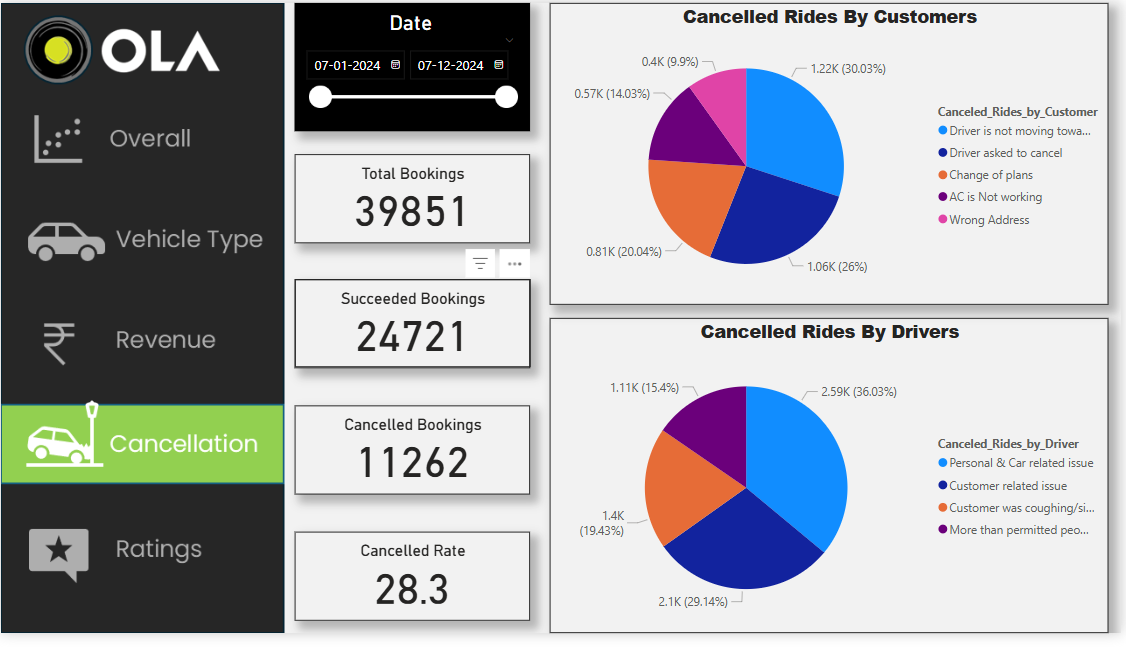

Layout of this report page (visuals, bound fields, positions):
{"tool":"powerbi","page":{"name":"Cancellation","canvas":[1280,720],"ordinal":3},"visuals":[{"type":"actionButton","box":[0,225.1,323.3,90],"z":0},{"type":"actionButton","box":[0,111.8,323.3,90],"z":1000},{"type":"actionButton","box":[0,334.4,323.3,106.7],"z":2000},{"type":"actionButton","box":[0,570.7,323.3,110],"z":3000},{"type":"pieChart","title":"Cancelled Rides By Customers","fields":{"Category":["Bookings.Canceled_Rides_by_Customer"],"Y":["CountNonNull(Bookings.Canceled_Rides_by_Customer)"]},"box":[627.5,0,638.8,345],"z":4000},{"type":"pieChart","title":"Cancelled Rides By Drivers","fields":{"Category":["Bookings.Canceled_Rides_by_Driver"],"Y":["CountNonNull(Bookings.Canceled_Rides_by_Driver)"]},"box":[627.5,360,638.8,360],"z":5000},{"type":"slicer","title":"Date","fields":{"Values":["Bookings.Date"]},"box":[336.2,0,268.8,146.2],"z":6000},{"type":"card","title":"Total Bookings","fields":{"Values":["Bookings.TotalBokkings"]},"box":[336.2,172.5,268.8,101.2],"z":7000},{"type":"card","title":"Succeeded Bookings","fields":{"Values":["Count(Bookings.Booking_ID)"]},"box":[336.2,315,268.8,101.2],"z":8000},{"type":"card","title":"Cancelled Bookings","fields":{"Values":["Bookings.CanceledBookings"]},"box":[336.2,460,268.8,101.2],"z":9000},{"type":"card","title":"Cancelled Rate","fields":{"Values":["Bookings.CanceledPercentage"]},"box":[336.2,603.8,268.8,101.2],"z":10000}]}

Visuals, with their boxes in screenshot pixels (x1, y1, x2, y2), scaled from the page's 1280x720 canvas onto the 1126x647 screenshot:
actionButton: [0, 202, 284, 283]
actionButton: [0, 100, 284, 181]
actionButton: [0, 300, 284, 396]
actionButton: [0, 513, 284, 612]
"Cancelled Rides By Customers" pieChart: [552, 0, 1114, 310]
"Cancelled Rides By Drivers" pieChart: [552, 324, 1114, 646]
"Date" slicer: [296, 0, 532, 131]
"Total Bookings" card: [296, 155, 532, 246]
"Succeeded Bookings" card: [296, 283, 532, 374]
"Cancelled Bookings" card: [296, 413, 532, 504]
"Cancelled Rate" card: [296, 543, 532, 634]
